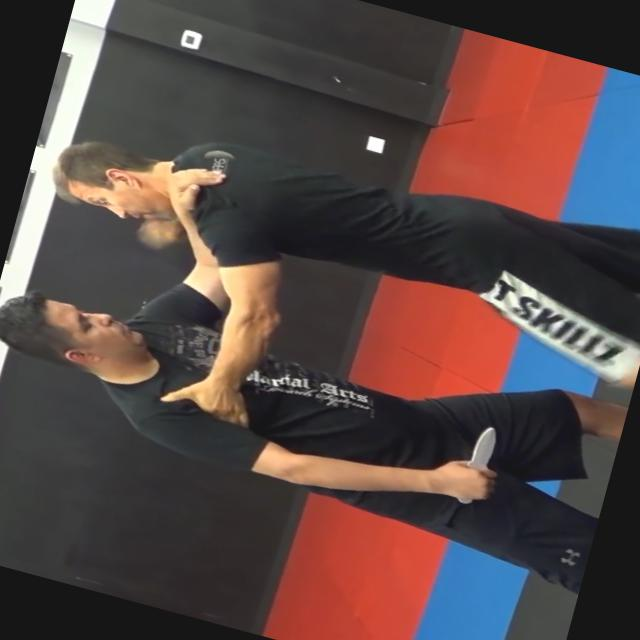knife: (449, 418, 512, 512)
